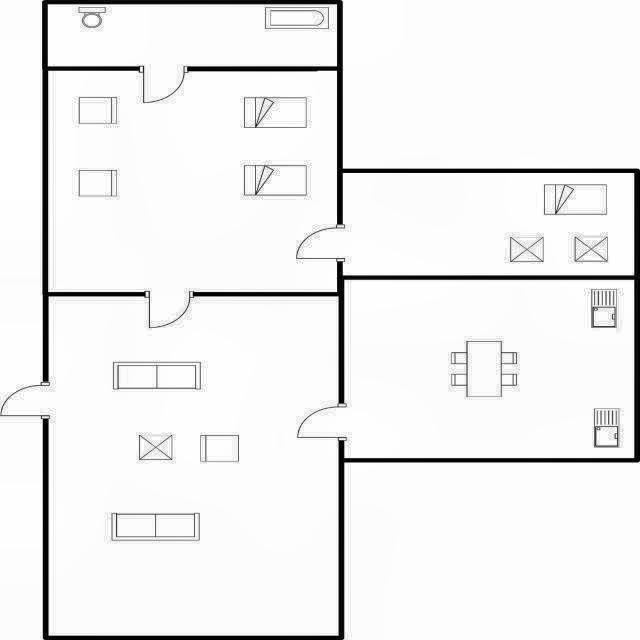room: (49, 296, 339, 636), (48, 71, 337, 292), (344, 280, 634, 458), (343, 173, 634, 275), (48, 4, 337, 66)
